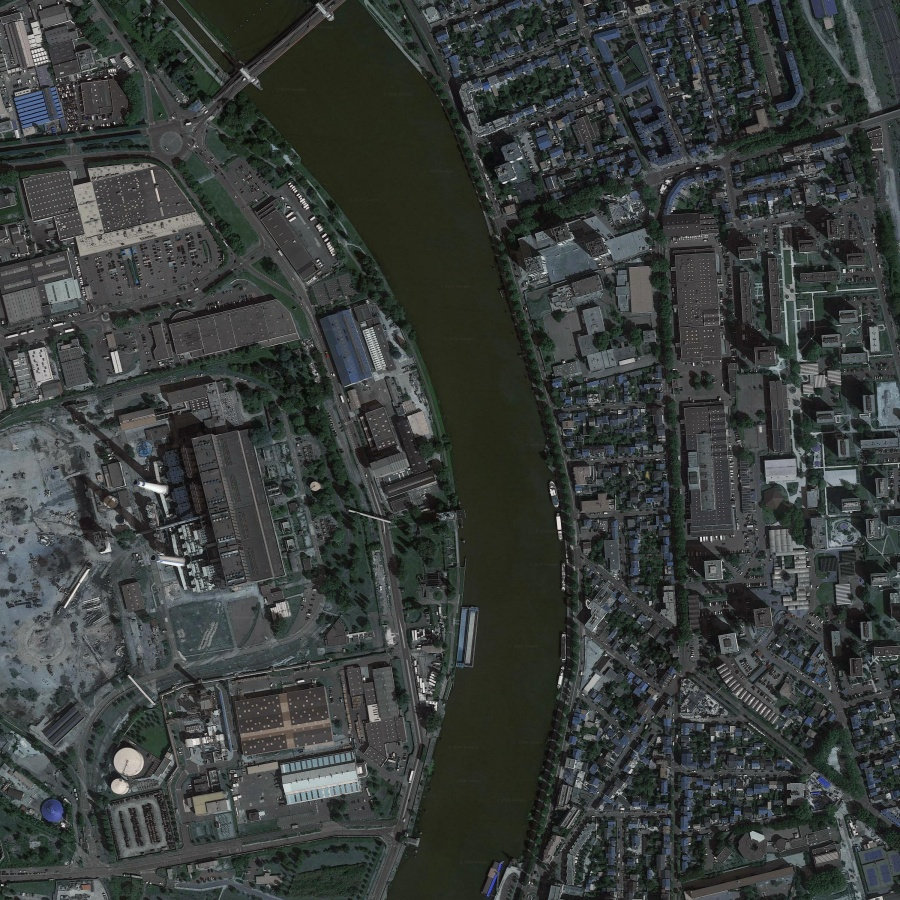PowerPlant: (62, 394, 266, 794)
